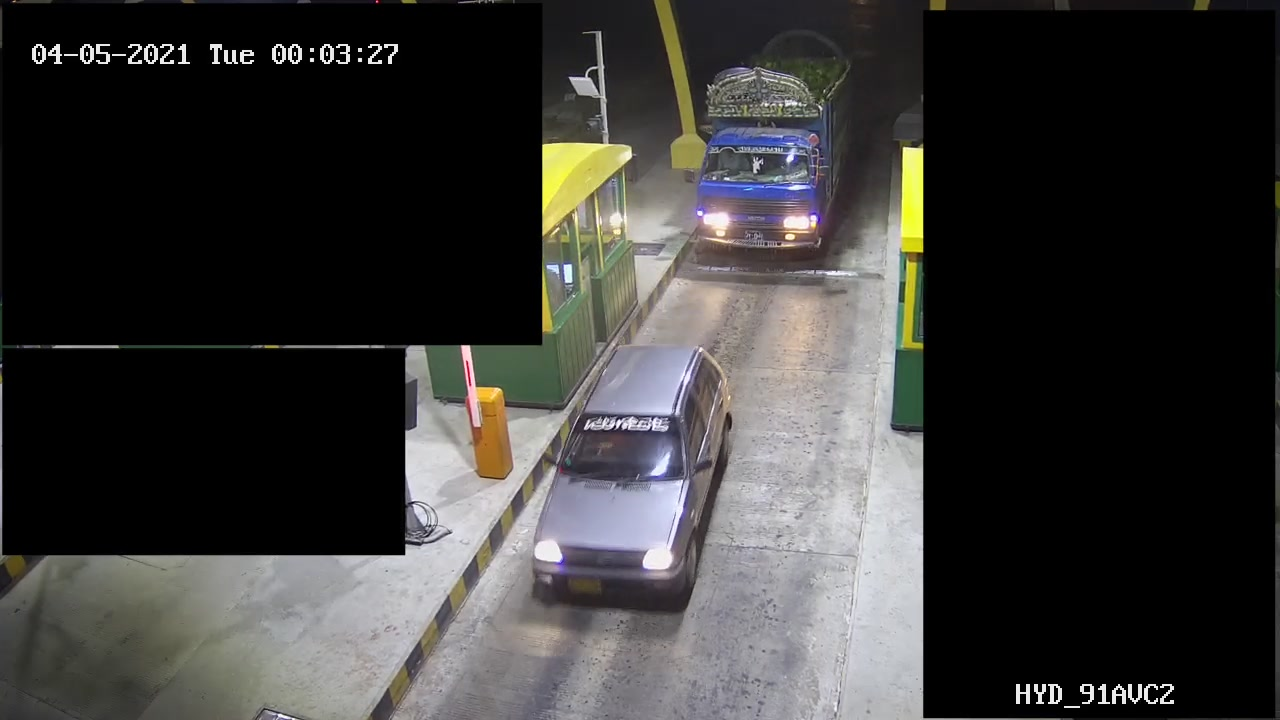F1: (521, 339, 751, 616)
F5: (682, 30, 857, 269)
